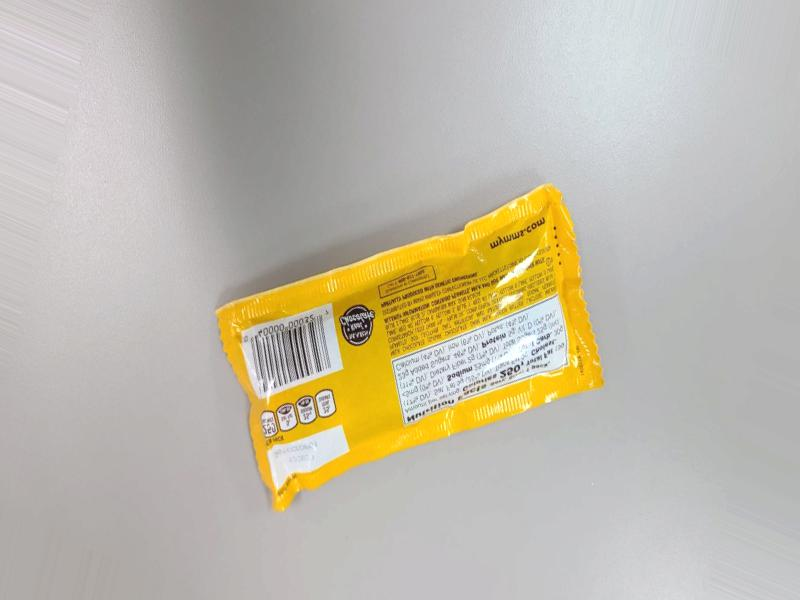m&m: (183, 181, 636, 518)
